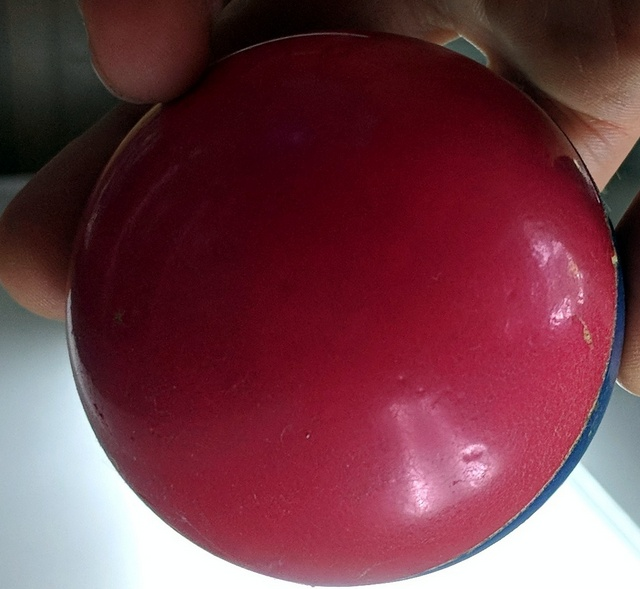ball: (68, 31, 617, 587)
